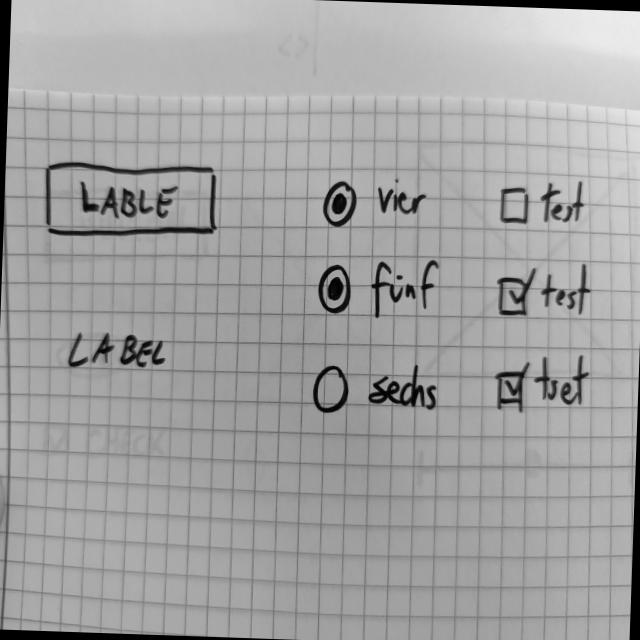button: (42, 156, 223, 244)
checkbox: (494, 348, 591, 416), (496, 257, 592, 324), (499, 172, 589, 231)
label: (65, 325, 173, 377)
radio: (315, 254, 444, 326), (311, 359, 443, 420), (322, 174, 430, 235)
